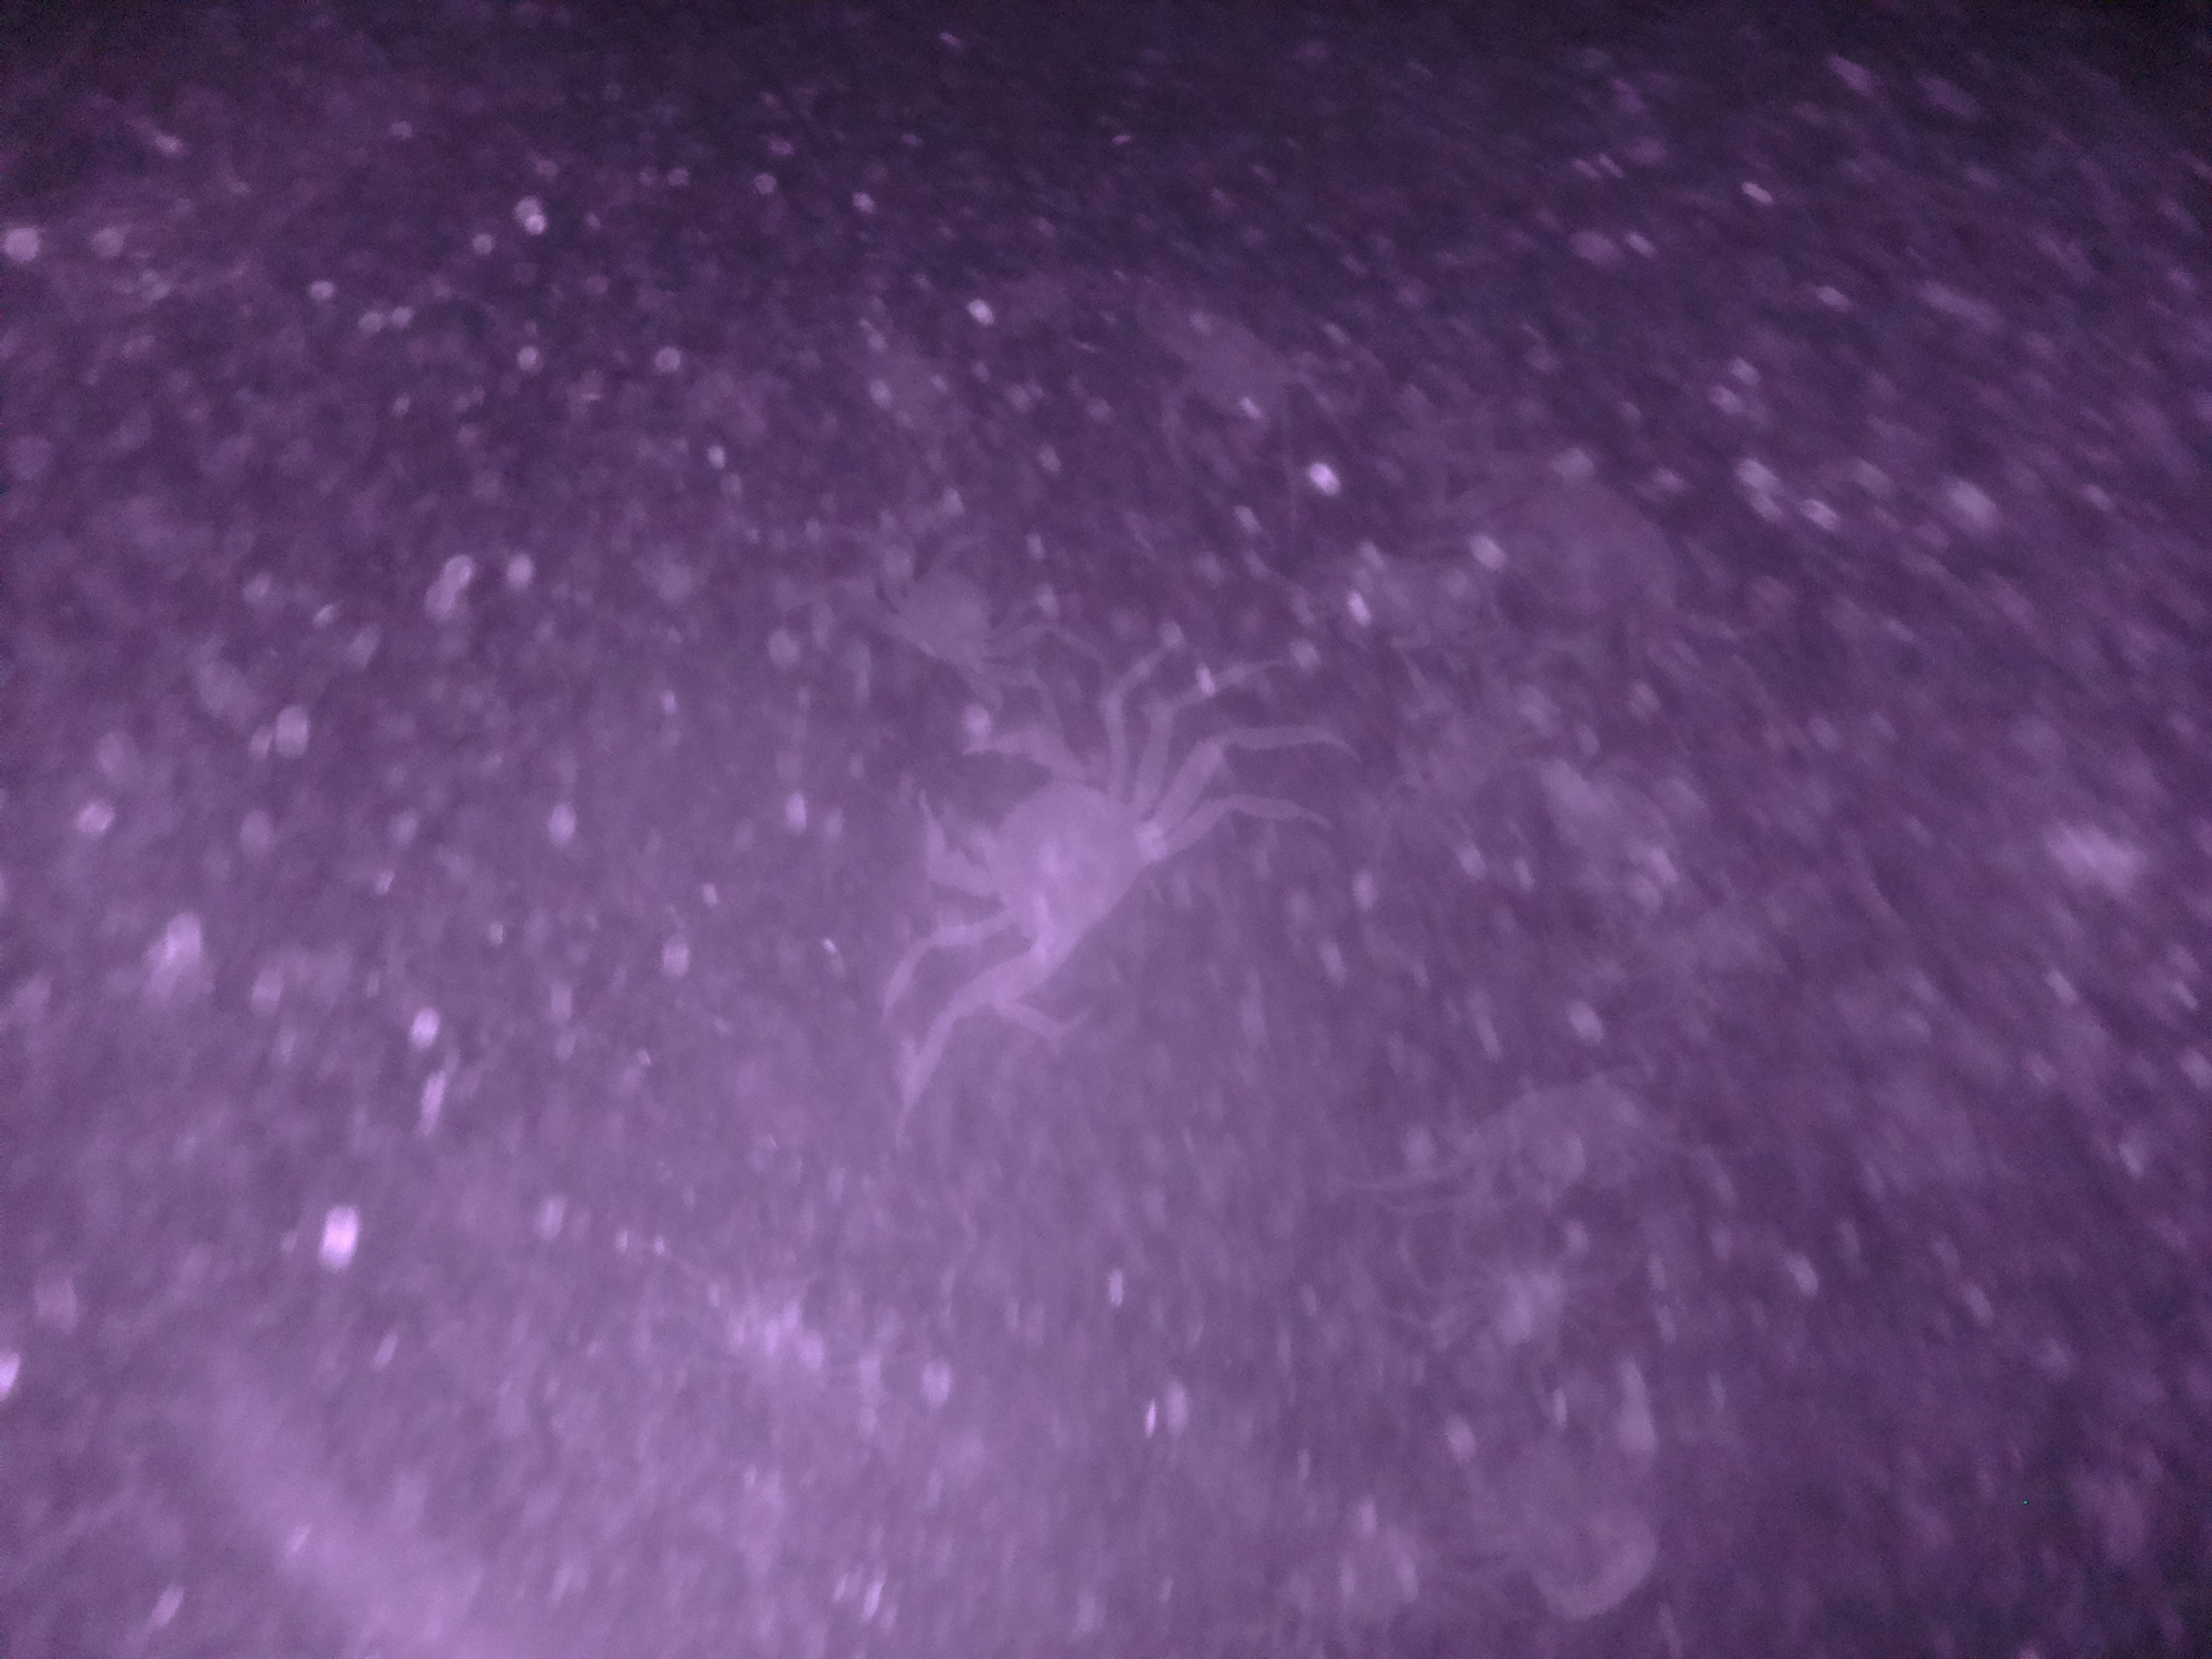Crab: (888, 706, 1195, 986), (866, 511, 1036, 685)
